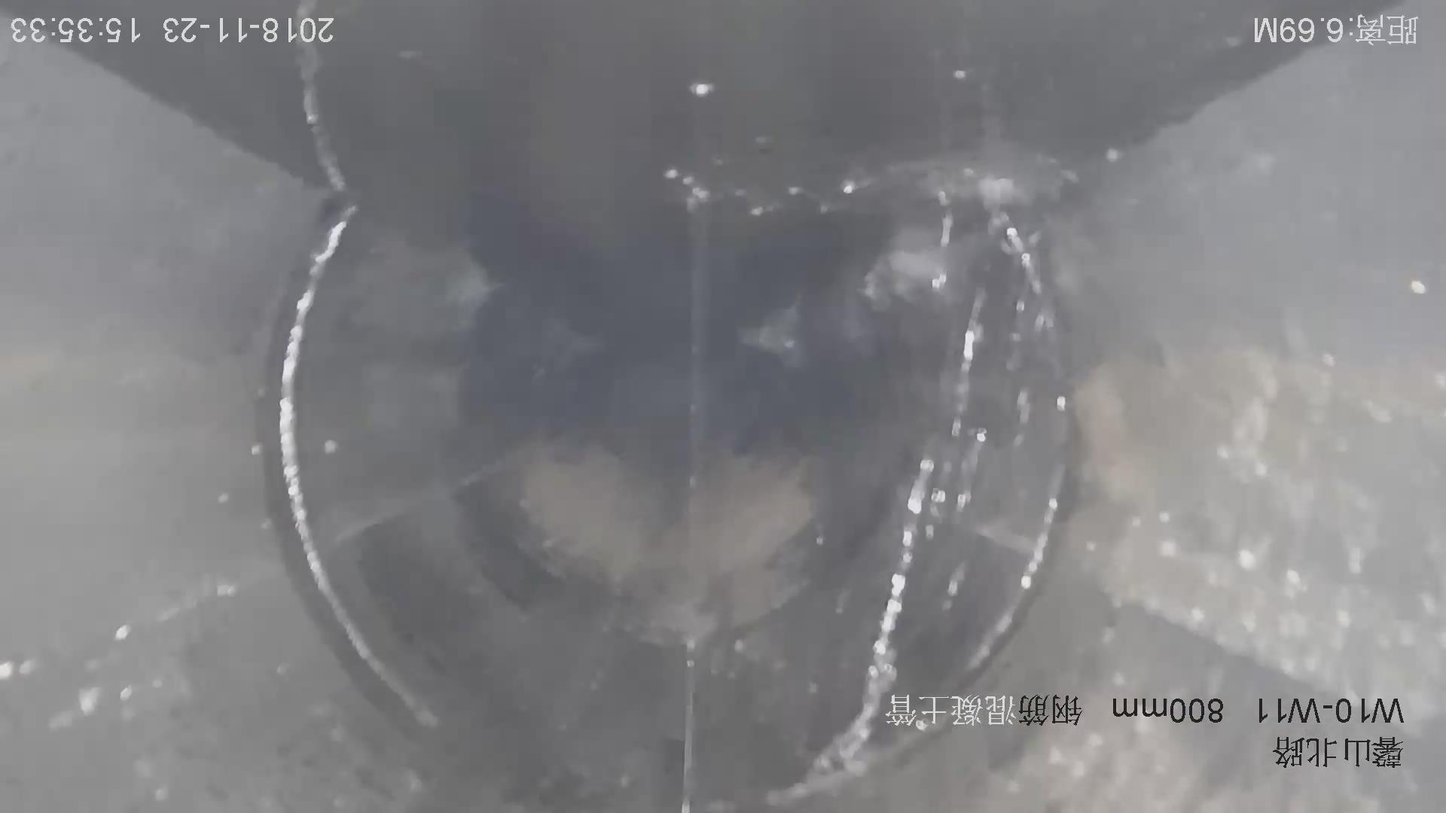SL: (564, 160, 1067, 800)
